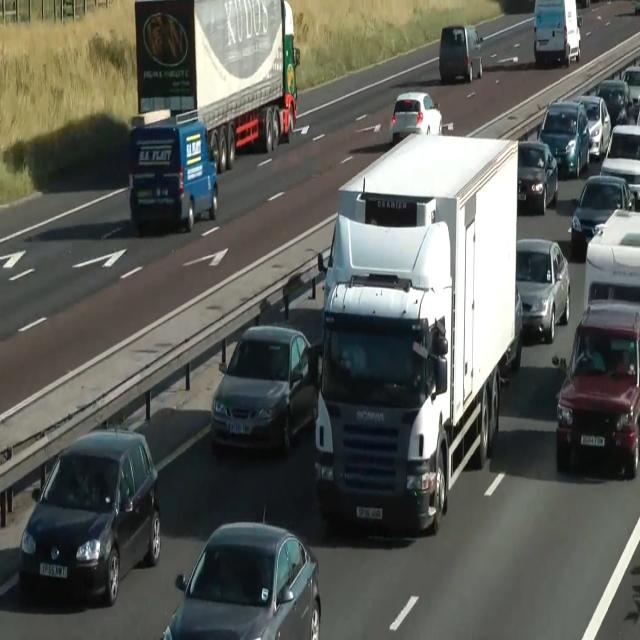bus: (161, 509, 321, 639), (210, 324, 320, 454), (516, 237, 570, 343), (584, 207, 640, 306), (568, 174, 634, 254), (600, 124, 640, 202), (517, 140, 558, 215), (390, 91, 442, 145), (569, 94, 611, 160), (500, 283, 522, 373), (595, 79, 633, 126), (622, 65, 640, 104), (633, 0, 639, 15)
jeep: (19, 422, 161, 606), (553, 298, 639, 478), (127, 115, 219, 233), (538, 100, 590, 178), (438, 23, 484, 83)
minibus: (313, 131, 522, 536), (134, 0, 300, 174), (533, 0, 581, 67)
